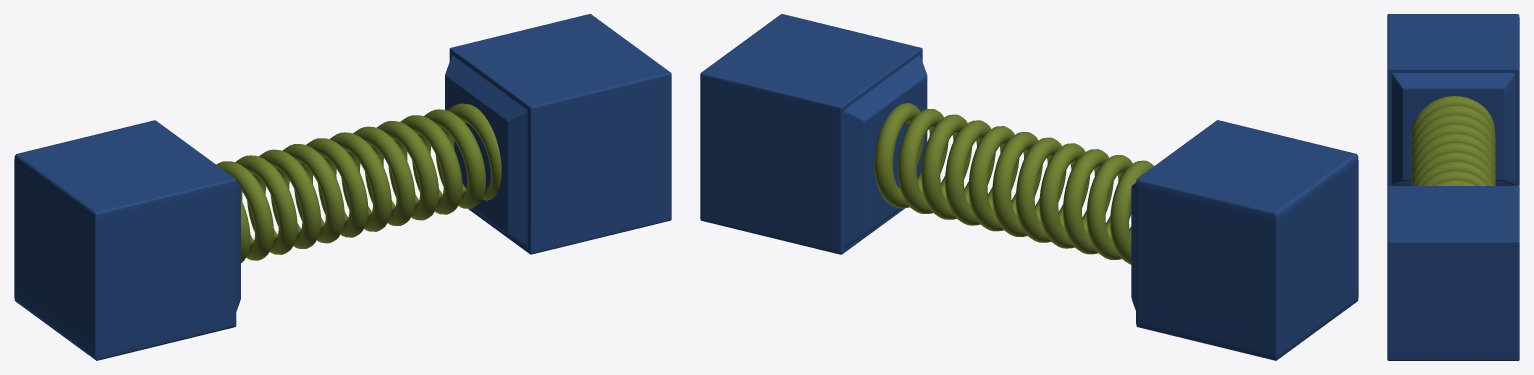
The model's file is GearHandler.fbx.
The picture shows the model from 3 angles, left to right: view 1: azimuth 30°, elevation 25°; view 2: azimuth 150°, elevation 25°; view 3: azimuth 270°, elevation 25°; orthographic projection. The views are drawn at different scales.
Visible parts, largest first — view 1: GearHandler (×2); view 2: GearHandler (×2); view 3: GearHandler (×2).
Boxes of the visible parts, box(x1,y1,x2,y2) form: GearHandler (×2): box(14, 14, 671, 360); GearHandler (×2): box(700, 14, 1358, 360); GearHandler (×2): box(1387, 14, 1519, 360).
Bounding box in the file's own units: 24.48 × 6 × 6.
